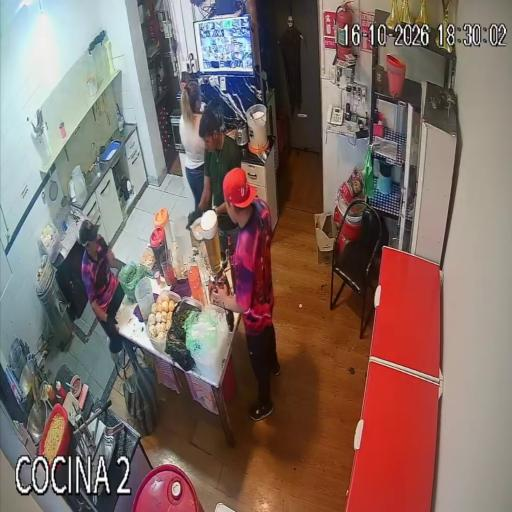Envase Ketchup: (56, 381, 65, 400)
Envase Llajua: (43, 383, 54, 402)
Jarra1: (150, 227, 167, 273)
Jarra2: (154, 206, 170, 245)
Jarra3: (175, 216, 193, 262)
Jarra4: (135, 277, 154, 321)
Microondas: (171, 109, 184, 152)
Persona1: (213, 168, 280, 421)
Persona2: (79, 220, 122, 352)
Persona3: (179, 82, 205, 207)
Persona4: (199, 107, 241, 241)
Taper: (40, 223, 61, 264)
Taper2: (185, 305, 230, 379)
Taper3: (165, 297, 202, 370)
Taper4: (146, 291, 180, 352)
